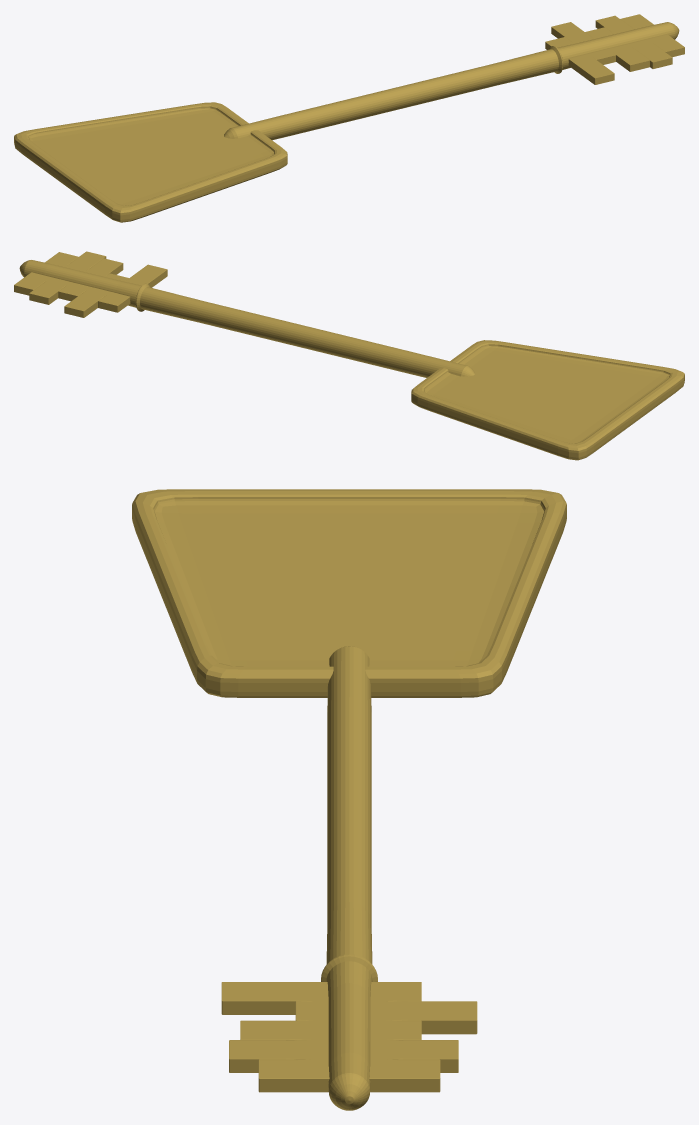
3 views of the same model, one above another, from view 1: azimuth 30°, elevation 25°; view 2: azimuth 150°, elevation 25°; view 3: azimuth 270°, elevation 25° (orthographic). The views are drawn at different scales.
Visible parts, largest first — view 1: key; view 2: key; view 3: key.
Boxes of the visible parts, x1,y1,x2,y2 form: key: (14, 14, 684, 222); key: (14, 251, 684, 460); key: (132, 489, 566, 1110).
Size of the model in its own units: 4.79 by 0.1933 by 1.47.
